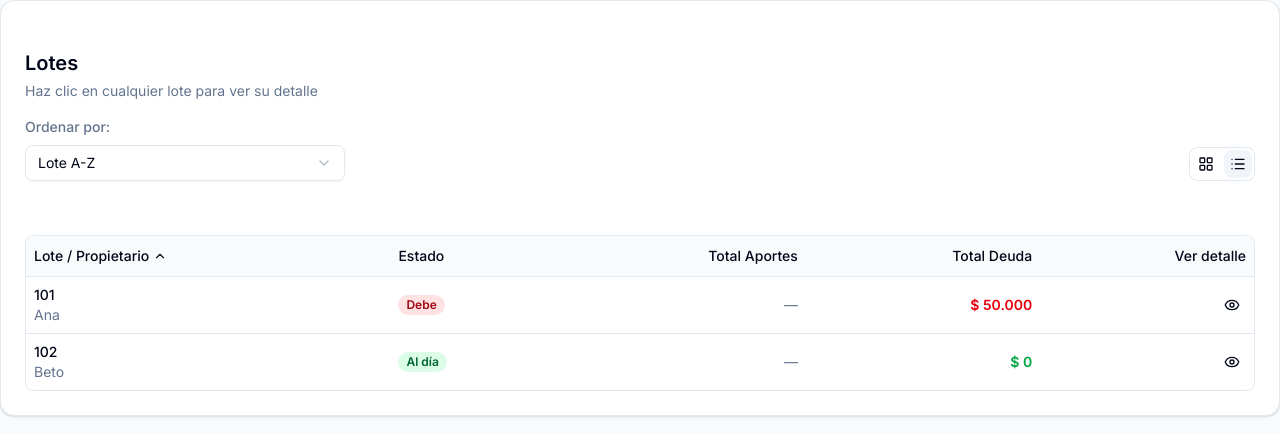
Test: LotCards › switches to the list view and back through the toggle buttons
What coordinates should you click on to do the following:
click the button titled "Ver como lista"
I would click on:
 (1238, 164)
Its box is [1224,150,1252,178].
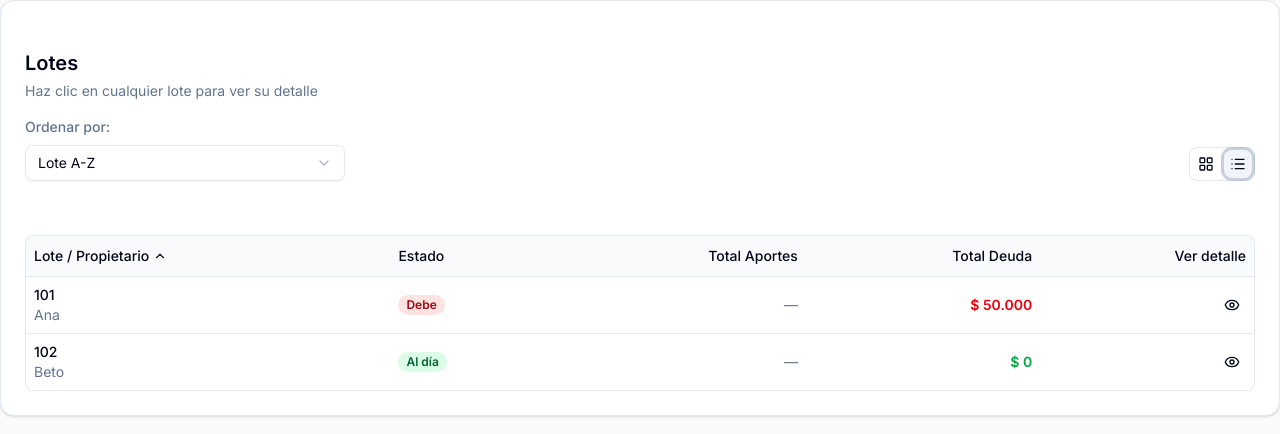
Expected: the table is shown, [26,236,1254,390]
What coordinates should you click on to do the following:
click the button titled "Ver como tarjetas"
I would click on:
 (1206, 164)
Its box is [1192,150,1220,178].
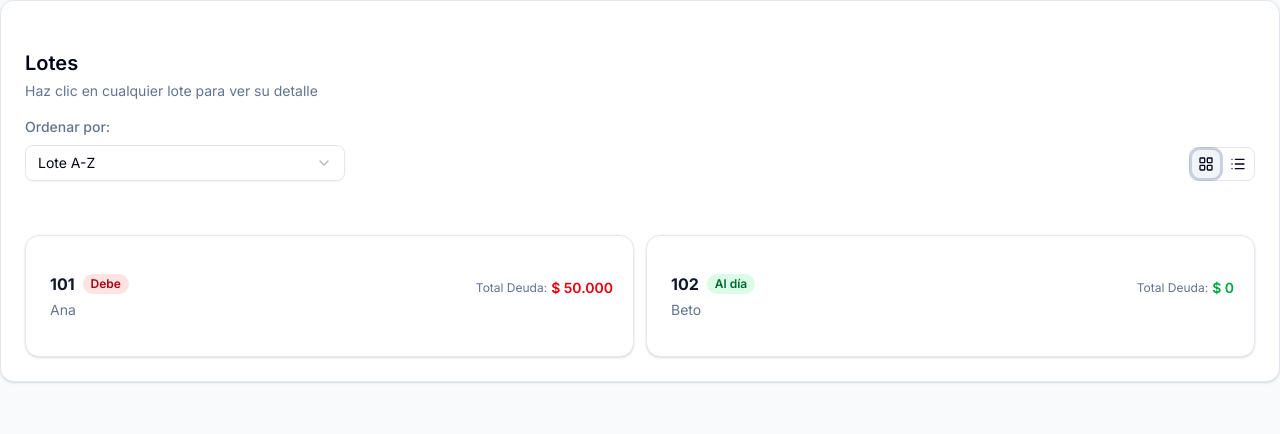
Expected: the table is gone
